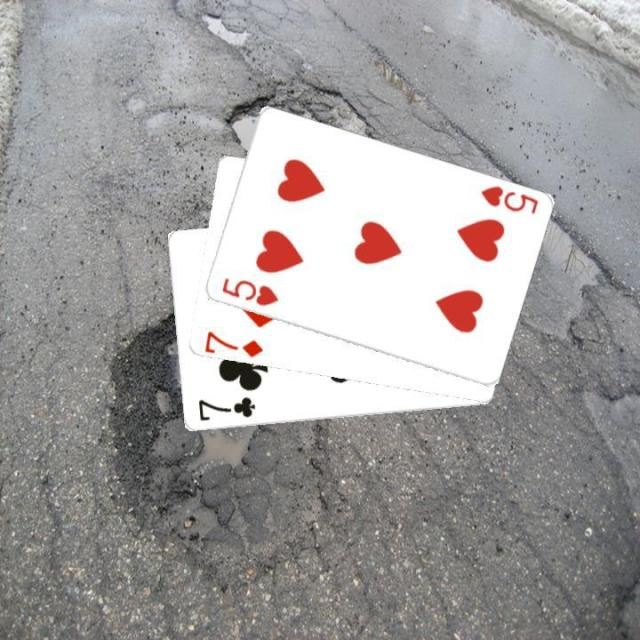5H: (476, 182, 540, 216), (217, 274, 280, 308)
7C: (194, 394, 257, 423)
7D: (201, 327, 265, 359)
